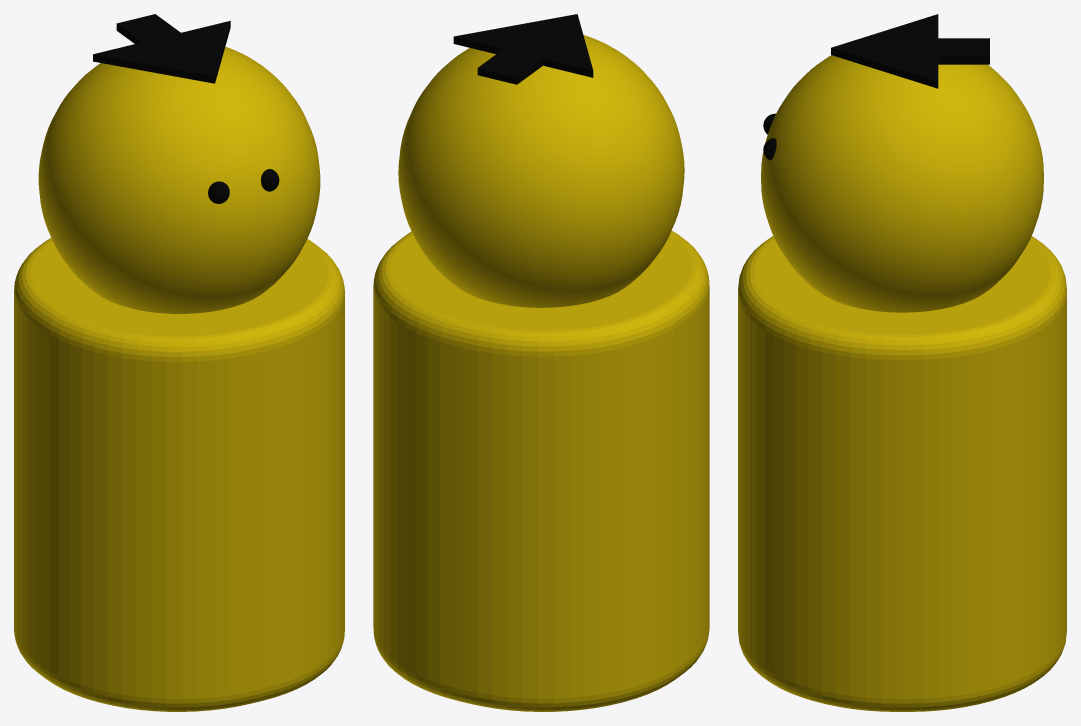
3 views of the same model, side by side, from view 1: azimuth 30°, elevation 25°; view 2: azimuth 150°, elevation 25°; view 3: azimuth 270°, elevation 25° (orthographic).
Parts seen in each view (by area): view 1: Cube.004_Cube.014_Material.003, Cube.004_Cube.014_SVGMat; view 2: Cube.004_Cube.014_Material.003, Cube.004_Cube.014_SVGMat; view 3: Cube.004_Cube.014_Material.003, Cube.004_Cube.014_SVGMat.
Boxes of the visible parts, x1=… form: Cube.004_Cube.014_Material.003: x1=14, y1=46, x2=344, y2=711; Cube.004_Cube.014_SVGMat: x1=93, y1=14, x2=279, y2=203; Cube.004_Cube.014_Material.003: x1=373, y1=35, x2=709, y2=711; Cube.004_Cube.014_SVGMat: x1=453, y1=14, x2=593, y2=84; Cube.004_Cube.014_Material.003: x1=738, y1=55, x2=1066, y2=711; Cube.004_Cube.014_SVGMat: x1=763, y1=14, x2=989, y2=160.
Bounding box in the file's own units: 0.2392 × 0.4819 × 0.2392.
